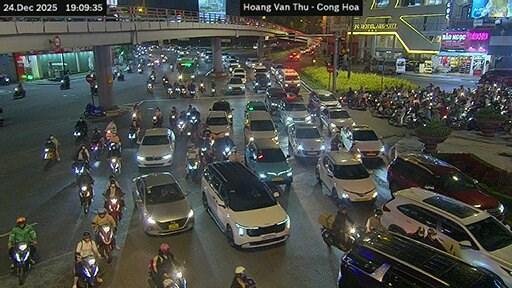motorbike: (317, 212, 362, 251), (15, 242, 31, 283), (96, 225, 114, 261), (76, 175, 92, 212), (79, 256, 98, 286), (160, 265, 185, 287), (105, 197, 121, 223), (41, 144, 56, 170), (147, 266, 162, 287), (71, 161, 88, 178), (387, 108, 403, 126), (83, 103, 105, 116), (185, 158, 198, 179), (90, 139, 102, 157), (109, 157, 120, 174), (128, 127, 138, 145), (74, 129, 86, 144), (348, 99, 367, 108), (176, 117, 186, 134), (12, 86, 25, 99), (221, 145, 233, 158), (131, 109, 140, 125), (169, 112, 176, 129), (60, 77, 69, 89), (153, 115, 162, 126), (166, 86, 174, 98), (89, 82, 96, 94), (115, 71, 124, 80), (179, 85, 185, 97), (198, 82, 204, 93), (0, 107, 3, 126), (124, 64, 131, 72), (173, 85, 179, 94), (188, 88, 194, 97), (147, 81, 151, 94), (162, 76, 167, 86), (149, 73, 154, 82), (211, 86, 216, 95), (137, 68, 143, 71), (138, 64, 142, 68)
